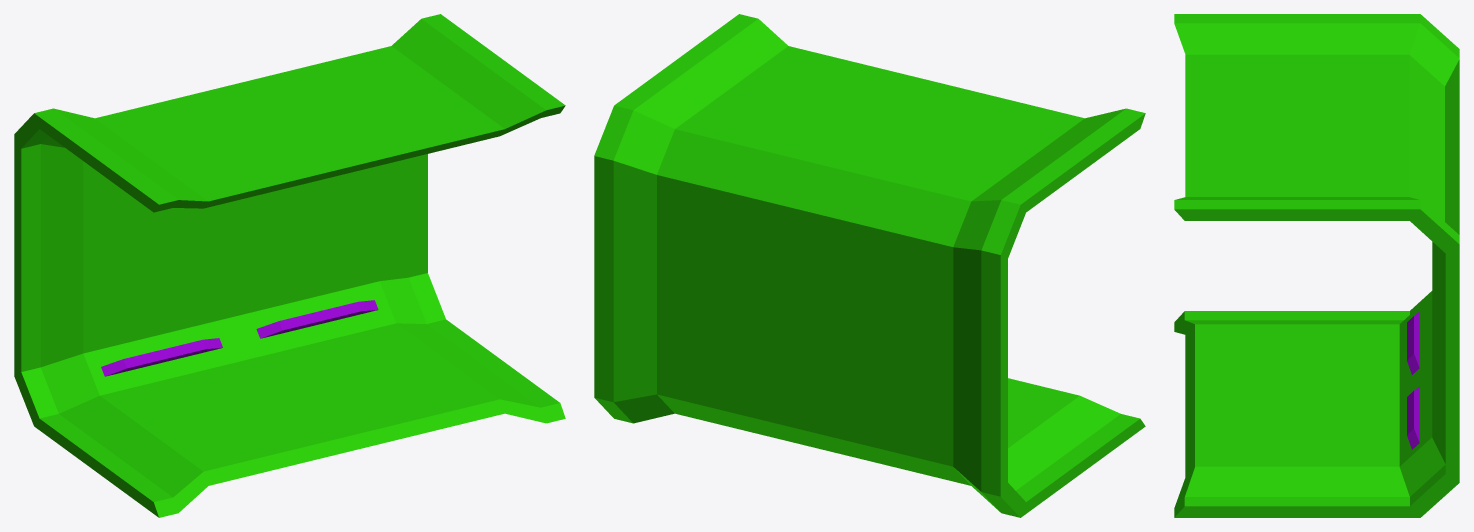
Rendered from HallSegment_SideOpen.fbx.
3 views of the same model, side by side, from view 1: azimuth 30°, elevation 25°; view 2: azimuth 150°, elevation 25°; view 3: azimuth 270°, elevation 25° (orthographic).
Visible parts, largest first — view 1: Cube; view 2: Cube; view 3: Cube.
Part boxes in pixels (<box>): Cube: <box>14,14,565,517</box>; Cube: <box>594,14,1145,517</box>; Cube: <box>1174,14,1459,517</box>.
Size of the model in its own units: 419 by 309 by 259.
